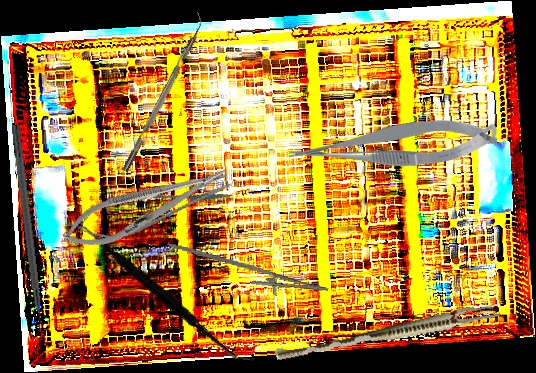Chopper: (114, 11, 210, 173)
Hook Surgical: (8, 124, 46, 339)
Micro Scissor: (73, 169, 237, 249), (289, 118, 497, 168)
Needle Holder: (56, 153, 235, 260), (162, 242, 332, 304)
Spatula Surgical: (53, 221, 269, 361)
Tissue Forceps: (274, 297, 502, 370)
